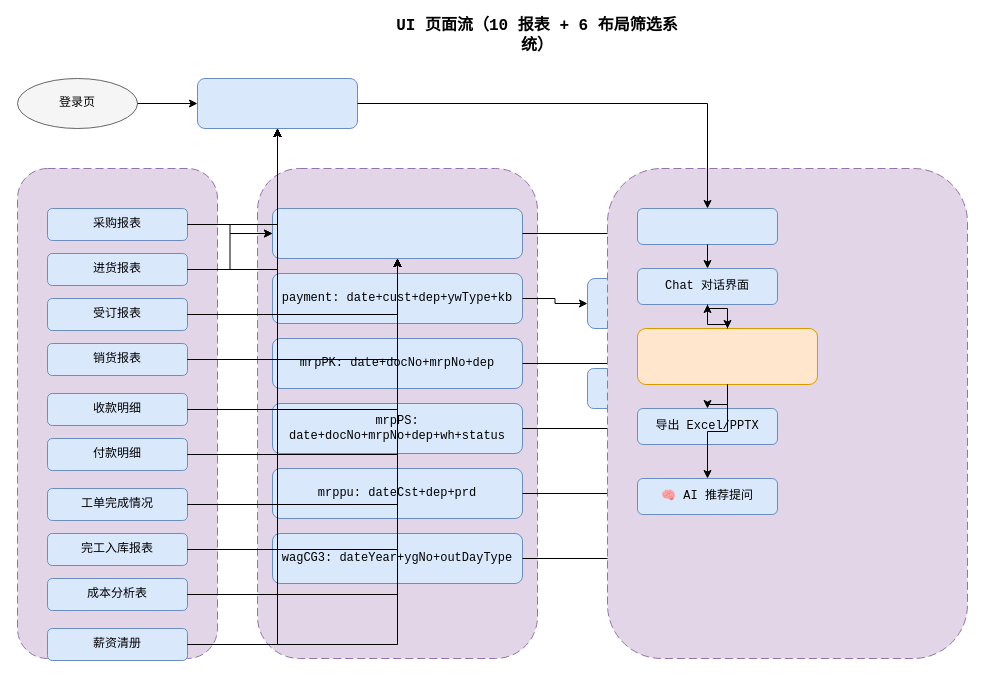
The diagram is 985 pixels wide and 678 high, and some of its shapes have lost their labels. Each missing label, with the box of its shape:
AI 数据分析 Tab（多模型：Deepseek/QWen/Gemini/Claude）: (606, 168, 968, 658)
Dashboard 主界面: (196, 78, 358, 128)
inv: date+cust+prd+dep+wh+status: (272, 208, 522, 258)
侧边栏导航（4 分组，10 报表）: (16, 168, 218, 658)
多模型 LLM Deepseek/QWen/Gemini/Claude: (636, 328, 818, 384)
数据源列表: (636, 208, 778, 244)
筛选面板（6 布局配置驱动）: (256, 168, 538, 658)
